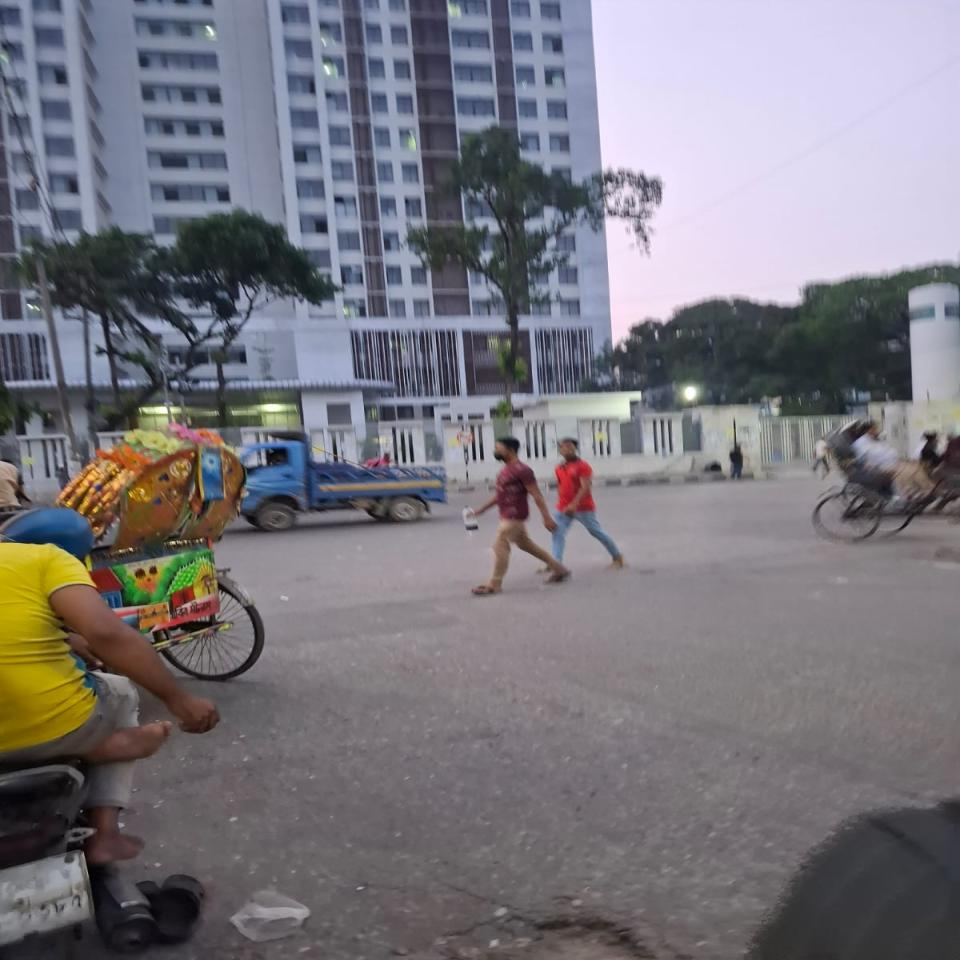person: (467, 436, 570, 596), (539, 438, 626, 574)
